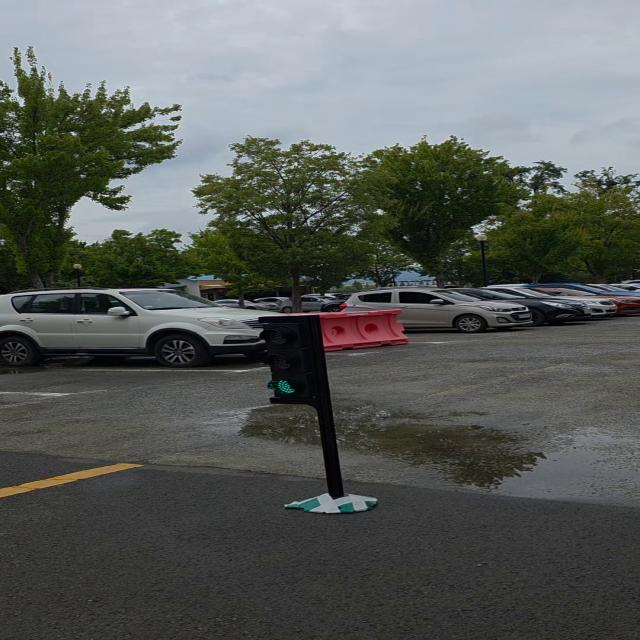green: (262, 313, 326, 406)
